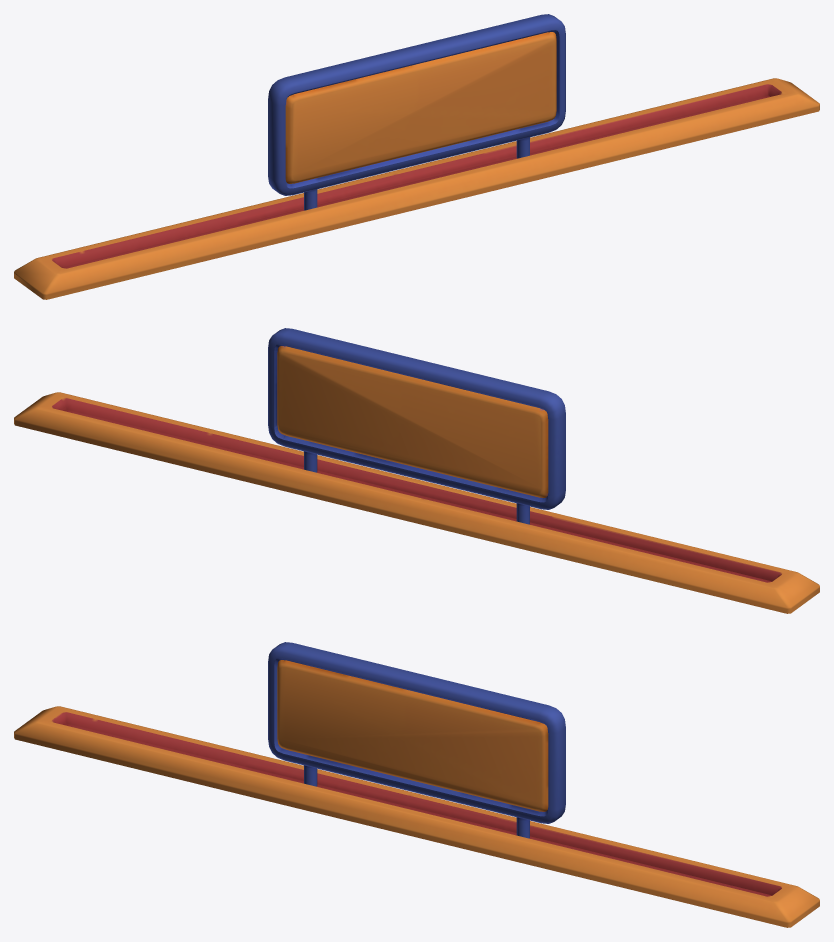
File: SlidingBlocker.fbx
3 renders of one model, top to bottom at view 1: azimuth 30°, elevation 25°; view 2: azimuth 150°, elevation 25°; view 3: azimuth 330°, elevation 25°, orthographic.
Visible parts, largest first — view 1: SlidingBlocker, SlidingBlocker_Frame; view 2: SlidingBlocker, SlidingBlocker_Frame; view 3: SlidingBlocker, SlidingBlocker_Frame.
Boxes of the visible parts, x1,y1,x2,y2 form: SlidingBlocker: (268, 14, 565, 210); SlidingBlocker_Frame: (14, 78, 819, 299); SlidingBlocker: (268, 328, 565, 524); SlidingBlocker_Frame: (14, 392, 819, 613); SlidingBlocker: (268, 642, 565, 838); SlidingBlocker_Frame: (14, 706, 819, 927).
Bounding box in the file's own units: 1449 × 259 × 103.
